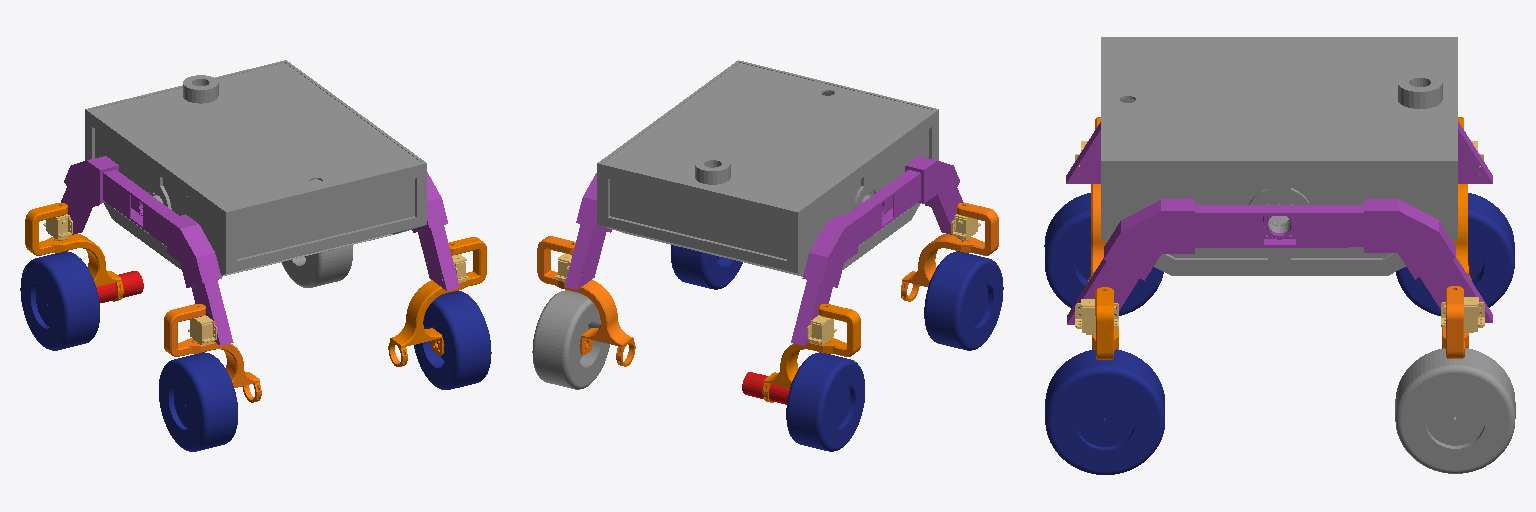
--- Facts derived from the render (not from the file) ---
3 views of the same robot in one strip: view 1: azimuth 30°, elevation 25°; view 2: azimuth 150°, elevation 25°; view 3: azimuth 270°, elevation 25° (orthographic).
Model rover with 23 links and 22 joints (6 revolute, 4 continuous, 12 fixed), rooted at body, posed all joints at 0.
Links seen in each view (by area): view 1: body, left_rocker, bl_whl, fl_whl, br_whl, br_steer, fl_steer, right_rocker, bl_steer, fr_whl, fl_motor, bl_servo (+1 smaller); view 2: body, left_rocker, bl_whl, fl_whl, fr_whl, fr_steer, bl_steer, right_rocker, fl_steer, br_whl, fl_motor, fl_servo (+1 smaller); view 3: body, right_rocker, fr_whl, br_whl, fl_whl, bl_whl, left_rocker, br_steer, fr_steer, bl_steer, fl_steer, fr_servo (+1 smaller).
Link boxes in pixels (x1,y1,x2,y2): body: [85, 60, 426, 276]; left_rocker: [61, 156, 233, 345]; bl_whl: [159, 352, 237, 451]; fl_whl: [20, 251, 99, 350]; br_whl: [414, 291, 491, 389]; br_steer: [388, 237, 486, 358]; fl_steer: [25, 203, 123, 292]; right_rocker: [412, 172, 459, 290]; bl_steer: [164, 304, 261, 393]; fr_whl: [281, 245, 352, 287]; fl_motor: [96, 271, 143, 302]; bl_servo: [188, 315, 216, 344]; body: [597, 60, 938, 276]; left_rocker: [791, 156, 963, 345]; bl_whl: [924, 251, 1003, 350]; fl_whl: [786, 352, 864, 451]; fr_whl: [532, 290, 609, 389]; fr_steer: [537, 236, 635, 357]; bl_steer: [901, 203, 998, 292]; right_rocker: [564, 173, 611, 289]; fl_steer: [762, 304, 860, 394]; br_whl: [671, 245, 742, 289]; fl_motor: [742, 372, 789, 404]; fl_servo: [807, 315, 836, 344]; body: [1101, 37, 1457, 275]; right_rocker: [1067, 199, 1492, 324]; fr_whl: [1395, 348, 1515, 473]; br_whl: [1045, 349, 1164, 474]; fl_whl: [1396, 193, 1514, 315]; bl_whl: [1044, 193, 1163, 315]; left_rocker: [1066, 121, 1492, 183]; br_steer: [1092, 287, 1118, 359]; fr_steer: [1442, 286, 1468, 358]; bl_steer: [1087, 117, 1106, 283]; fl_steer: [1453, 117, 1471, 280]; fr_servo: [1441, 297, 1484, 332].
Bounding box of the posed robot: 0.6178 × 0.6271 × 0.4485 m (x, y, z).
Meshes: 23 distinct files referenced, 20 mesh visuals loaded (20 binary STL); not drawn: 3 (reference not matched to a file when rendering).

URDF robot description (rover):
<robot name="rover">

<link name="body">
<visual>
<origin xyz="-0.19343228599428496928 0.14395944821783071554 0.26237109907984806911" rpy="-1.5707963267948983344 -3.3355470534782881752e-15 -9.5394697344059988075e-16" />
<geometry>
<mesh filename="package://rover_description/rover_desc/parts/body.stl"/>
</geometry>
<material name="body_material">
<color rgba="0.62745098039215685404 0.62745098039215685404 0.62745098039215685404 1.0"/>
</material>
</visual>
<collision>
<origin xyz="-0.19343228599428496928 0.14395944821783071554 0.26237109907984806911" rpy="-1.5707963267948983344 -3.3355470534782881752e-15 -9.5394697344059988075e-16" />
<geometry>
<mesh filename="package://rover_description/rover_desc/parts/body.stl"/>
</geometry>
</collision>
<inertial>
<origin xyz="-0.0034322859941748047434 0.0020938861086602922335 0.35730795518198049665" rpy="0 0 0"/>
<mass value="14.890136874895455676" />
<inertia ixx="0.43250086301603934968" ixy="2.9721267248896739341e-14"  ixz="1.1704030822239045252e-09" iyy="0.37287690006963231104" iyz="-0.00013013794919542435871" izz="0.68054838135481388051" />
</inertial>
</link>


<link name="left_rocker">
<visual>
<origin xyz="0.07816000000000011827 0.14200000000000037592 0.01800000000000012701" rpy="-1.570796326794896558 -1.5707963267948950037 0" />
<geometry>
<mesh filename="package://rover_description/rover_desc/parts/left_rocker.stl"/>
</geometry>
<material name="left_rocker_material">
<color rgba="0.68235294117647060652 0.33333333333333331483 0.73725490196078435901 1.0"/>
</material>
</visual>
<collision>
<origin xyz="0.07816000000000011827 0.14200000000000037592 0.01800000000000012701" rpy="-1.570796326794896558 -1.5707963267948950037 0" />
<geometry>
<mesh filename="package://rover_description/rover_desc/parts/left_rocker.stl"/>
</geometry>
</collision>
<inertial>
<origin xyz="0.019843209810583496699 -1.0071465883498831317e-10 -0.01259379922047600478" rpy="0 0 0"/>
<mass value="3.1599156804225070339" />
<inertia ixx="0.091997687781411846553" ixy="3.6592889631047604478e-11"  ixz="6.6591014607623069029e-06" iyy="0.0045988888217397697403" iyz="3.1871321967513628805e-13" izz="0.095584816217209864209" />
</inertial>
</link>

<link name="fl_servo">
<visual>
<origin xyz="-0.034073937586584723825 -0.077213843876329818494 0.043400000000000132916" rpy="-1.570796326794896558 -1.5707963267948954478 0" />
<geometry>
<mesh filename="package://rover_description/rover_desc/parts/fl_servo.stl"/>
</geometry>
<material name="fl_servo_material">
<color rgba="0.95294117647058818044 0.79607843137254896693 0.48627450980392156188 1.0"/>
</material>
</visual>
<collision>
<origin xyz="-0.034073937586584723825 -0.077213843876329818494 0.043400000000000132916" rpy="-1.570796326794896558 -1.5707963267948954478 0" />
<geometry>
<mesh filename="package://rover_description/rover_desc/parts/fl_servo.stl"/>
</geometry>
</collision>
<inertial>
<origin xyz="0.0079700947515648021963 0.023817007874858756034 -0.012211397442198006213" rpy="0 0 0"/>
<mass value="0.30095826250826973602" />
<inertia ixx="6.1515020750386716097e-05" ixy="4.1386348707448021383e-07"  ixz="1.2153545413687036965e-06" iyy="5.6400683761713572004e-05" iyz="-7.0967198374895849115e-08" izz="9.1372734015628923228e-05" />
</inertial>
</link>

<link name="fl_steer">
<visual>
<origin xyz="0.056900000000000033884 -0.091013843876329769689 0.06867393758658507652" rpy="-1.570796326794901443 9.7218023302443306324e-16 -5.7863152934901557806e-19" />
<geometry>
<mesh filename="package://rover_description/rover_desc/parts/fl_steer.stl"/>
</geometry>
<material name="fl_steer_material">
<color rgba="0.97254901960784312376 0.52941176470588235947 0.0039215686274509803377 1.0"/>
</material>
</visual>
<collision>
<origin xyz="0.056900000000000033884 -0.091013843876329769689 0.06867393758658507652" rpy="-1.570796326794901443 9.7218023302443306324e-16 -5.7863152934901557806e-19" />
<geometry>
<mesh filename="package://rover_description/rover_desc/parts/fl_steer.stl"/>
</geometry>
</collision>
<inertial>
<origin xyz="0.021796088565620277966 -3.4269795938512981337e-07 -0.022257353183229824228" rpy="0 0 0"/>
<mass value="1.3486655156843314618" />
<inertia ixx="0.0036322882753136629362" ixy="-1.3750609455605709302e-08"  ixz="0.0026697404360839158133" iyy="0.0068253606450100548497" iyz="4.2296529827094503289e-08" izz="0.0034338949276419452987" />
</inertial>
</link>

<link name="fl_motor">
<visual>
<origin xyz="-0.028999999999999998002 0.002999999999999974909 -0.11825000000000004952" rpy="1.570796326794896558 5.421257686680294571e-32 -9.7638531054305158568e-33" />
<geometry>
<mesh filename="package://rover_description/rover_desc/parts/fl_motor.stl"/>
</geometry>
<material name="fl_motor_material">
<color rgba="0.86666666666666669627 0.13333333333333333148 0.13333333333333333148 1.0"/>
</material>
</visual>
<collision>
<origin xyz="-0.028999999999999998002 0.002999999999999974909 -0.11825000000000004952" rpy="1.570796326794896558 5.421257686680294571e-32 -9.7638531054305158568e-33" />
<geometry>
<mesh filename="package://rover_description/rover_desc/parts/fl_motor.stl"/>
</geometry>
</collision>
<inertial>
<origin xyz="0.0081633417621368303818 -0.0080748979523884763937 -0.063711508697810809165" rpy="0 0 0"/>
<mass value="1.1669635249832903678" />
<inertia ixx="0.0014435661258087530319" ixy="2.7173683331507626971e-09"  ixz="5.1318365618333701989e-07" iyy="0.0014456129621376958855" iyz="-2.4540570541830781249e-07" izz="0.00022941596317910245952" />
</inertial>
</link>

<link name="fl_whl">
<visual>
<origin xyz="-0.18104393758658485214 -0.091013843608109823435 0.050899999999998529754" rpy="-1.57079632679489678 -1.570796326794891451 0" />
<geometry>
<mesh filename="package://rover_description/rover_desc/parts/fl_whl.stl"/>
</geometry>
<material name="fl_whl_material">
<color rgba="0.18823529411764705621 0.2313725490196078538 0.58823529411764707842 1.0"/>
</material>
</visual>
<collision>
<origin xyz="-0.18104393758658485214 -0.091013843608109823435 0.050899999999998529754" rpy="-1.57079632679489678 -1.570796326794891451 0" />
<geometry>
<mesh filename="package://rover_description/rover_desc/parts/fl_whl.stl"/>
</geometry>

</collision>
<inertial>
<origin xyz="-7.9178013523293577987e-17 -9.7144514654701197287e-17 -0.0070773280698739971309" rpy="0 0 0"/>
<mass value="1.3365750692679565503" />
<inertia ixx="0.002829424224058673179" ixy="-2.1539453691249887424e-19"  ixz="4.2738442004738362441e-18" iyy="0.002829424224058673179" iyz="8.5390822538103700404e-18" izz="0.0046912485783696094427" />
</inertial>
</link>

<joint name="fl_wheel" type="continuous">
<origin xyz="0.0079999999999995630162 -0.0079999999999979809484 0.023499999999998494316" rpy="3.1415926535897926719 -5.7430720689678564416e-16 2.5563346814631189297" />
<parent link="fl_motor" />
<child link="fl_whl" />
<axis xyz="0 0 1"/>
<limit effort="1" velocity="20" />
<joint_properties friction="12.0"/>
</joint>

<joint name="FL_Motor2Mount" type="fixed">
<origin xyz="0.029500000000000720091 -0.0080000002682209248039 -0.10437000000000032363" rpy="-3.1415926535897926719 1.570796326794891451 0" />
<parent link="fl_steer" />
<child link="fl_motor" />
<axis xyz="0 0 1"/>
<limit effort="1" velocity="20" />
<joint_properties friction="0.0"/>
</joint>

<link name="fl_clamp">
<visual>
<origin xyz="-0.047600000000000530775 -0.11250057860073051086 0.18179393758658513036" rpy="-1.5707963267949001107 2.2947746081961756375e-15 -5.7863152935050374413e-19" />
<geometry>
<mesh filename="package://rover_description/rover_desc/parts/fl_clamp.stl"/>
</geometry>
<material name="fl_clamp_material">
<color rgba="1 0.52156862745098042655 0.10196078431372548878 1.0"/>
</material>
</visual>
<collision>
<origin xyz="-0.047600000000000530775 -0.11250057860073051086 0.18179393758658513036" rpy="-1.5707963267949001107 2.2947746081961756375e-15 -5.7863152935050374413e-19" />
<geometry>
<mesh filename="package://rover_description/rover_desc/parts/fl_clamp.stl"/>
</geometry>
</collision>
<inertial>
<origin xyz="-1.0621386825615530825e-09 -0.021486142739031308113 -0.013953120641351964004" rpy="0 0 0"/>
<mass value="0.023562966261883398073" />
<inertia ixx="5.8649646333848660368e-06" ixy="8.0054195219834950149e-12"  ixz="1.2846874940053395266e-12" iyy="1.1647538922670263761e-06" iyz="-1.2018458141570976938e-10" izz="5.1248936208296153987e-06" />
</inertial>
</link>

<joint name="FL_Clamp2Mount" type="fixed">
<origin xyz="0.10450000000000081446 0.02148673472440049137 -0.11162000000000021904" rpy="-1.3191487418674471279e-15 -1.3225943751717407993e-15 -5.7863152934430677564e-19" />
<parent link="fl_steer" />
<child link="fl_clamp" />
<axis xyz="0 0 1"/>
<limit effort="1" velocity="20" />
<joint_properties friction="0.0"/>
</joint>

<joint name="FL_Steer2Servo" type="revolute">
<origin xyz="0.034599999999999991873 0.013800000000000367528 -0.013499999999999900968" rpy="-1.5707963267943512164 -1.5667839918887107586 1.5707963267946660757" />
<parent link="fl_servo" />
<child link="fl_steer" />
<axis xyz="0 0 1"/>
<limit effort="1" velocity="20" lower="-1.0471975511965976313" upper="1.0471975511965976313"/>
<joint_properties friction="0.0"/>
</joint>

<!-- <gazebo reference="FL_Steer2Servo">
    <provideFeedback>true</provideFeedback>
    <implicitSpringDamper>true</implicitSpringDamper>
    <springStiffness>200.0</springStiffness>
    <springReference>0.0</springReference>
    <friction>0.75</friction>
</gazebo> -->

<joint name="FL_Servo2Rocker" type="fixed">
<origin xyz="0.11223393758658459229 0.21921384387633149893 -0.025399999999999700595" rpy="-7.5158228832025782511e-16 1.4251748903082761431e-15 1.5777218104420229102e-30" />
<parent link="left_rocker" />
<child link="fl_servo" />
<axis xyz="0 0 1"/>
<limit effort="1" velocity="20" />
<joint_properties friction="0.0"/>
</joint>

<link name="bl_servo">
<visual>
<origin xyz="-0.034073937586588359805 0.36121384387633087565 0.043400000000000493738" rpy="-1.570796326794896558 -1.5707963267948950037 0" />
<geometry>
<mesh filename="package://rover_description/rover_desc/parts/bl_servo.stl"/>
</geometry>
<material name="bl_servo_material">
<color rgba="0.95294117647058818044 0.79607843137254896693 0.48627450980392156188 1.0"/>
</material>
</visual>
<collision>
<origin xyz="-0.034073937586588359805 0.36121384387633087565 0.043400000000000493738" rpy="-1.570796326794896558 -1.5707963267948950037 0" />
<geometry>
<mesh filename="package://rover_description/rover_desc/parts/bl_servo.stl"/>
</geometry>
</collision>
<inertial>
<origin xyz="0.007970094751564916688 -0.023817007874858575622 -0.012211397442197985397" rpy="0 0 0"/>
<mass value="0.30095826250826984705" />
<inertia ixx="6.1515020750386743202e-05" ixy="-4.1386348707453214753e-07"  ixz="1.2153545413686098876e-06" iyy="5.6400683761713572004e-05" iyz="7.0967198374668420769e-08" izz="9.1372734015628963885e-05" />
</inertial>
</link>

<link name="bl_steer">
<visual>
<origin xyz="0.056900000000000089395 0.3750138438763308546 0.068673937586589073323" rpy="-1.5707963267948947816 1.0259804808888011719e-15 -2.2516610801147431128e-19" />
<geometry>
<mesh filename="package://rover_description/rover_desc/parts/bl_steer.stl"/>
</geometry>
<material name="bl_steer_material">
<color rgba="1 0.52156862745098042655 0.10196078431372548878 1.0"/>
</material>
</visual>
<collision>
<origin xyz="0.056900000000000089395 0.3750138438763308546 0.068673937586589073323" rpy="-1.5707963267948947816 1.0259804808888011719e-15 -2.2516610801147431128e-19" />
<geometry>
<mesh filename="package://rover_description/rover_desc/parts/bl_steer.stl"/>
</geometry>
</collision>
<inertial>
<origin xyz="0.021796088565502275136 4.2836195762729900594e-07 -0.0222573531832480076" rpy="0 0 0"/>
<mass value="1.3486655156810449796" />
<inertia ixx="0.0036322882752310749199" ixy="8.9151877740356255028e-09"  ixz="0.0026697404360826525009" iyy="0.0068253606450098865815" iyz="-3.3253112102159356026e-08" izz="0.0034338949275451989031" />
</inertial>
</link>

<link name="bl_motor">
<visual>
<origin xyz="-0.028999999999999984124 0.0030000000000000026645 -0.11825000000000003564" rpy="1.570796326794896558 -3.2298776845706547017e-31 -2.3153937587166193837e-32" />
<geometry>
<mesh filename="package://rover_description/rover_desc/parts/bl_motor.stl"/>
</geometry>
<material name="bl_motor_material">
<color rgba="0.86666666666666669627 0.13333333333333333148 0.13333333333333333148 1.0"/>
</material>
</visual>
<collision>
<origin xyz="-0.028999999999999984124 0.0030000000000000026645 -0.11825000000000003564" rpy="1.570796326794896558 -3.2298776845706547017e-31 -2.3153937587166193837e-32" />
<geometry>
<mesh filename="package://rover_description/rover_desc/parts/bl_motor.stl"/>
</geometry>
</collision>
<inertial>
<origin xyz="0.0081633417621368442596 -0.0080748979523884469034 -0.063711508697810809165" rpy="0 0 0"/>
<mass value="1.1669635249832903678" />
<inertia ixx="0.0014435661258087530319" ixy="2.7173683331513843233e-09"  ixz="5.1318365618334856072e-07" iyy="0.0014456129621376954519" iyz="-2.4540570541830273029e-07" izz="0.00022941596317910243241" />
</inertial>
</link>

<link name="bl_whl">
<visual>
<origin xyz="-0.18104393758658796076 0.37501384414455324334 0.050899999999998446487" rpy="-1.570796326794896558 -1.5707963267948921171 0" />
<geometry>
<mesh filename="package://rover_description/rover_desc/parts/bl_whl.stl"/>
</geometry>
<material name="bl_whl_material">
<color rgba="0.18823529411764705621 0.2313725490196078538 0.58823529411764707842 1.0"/>
</material>
</visual>
<collision>
<origin xyz="-0.18104393758658796076 0.37501384414455324334 0.050899999999998446487" rpy="-1.570796326794896558 -1.5707963267948921171 0" />
<geometry>
<mesh filename="package://rover_description/rover_desc/parts/bl_whl.stl"/>
</geometry>
</collision>
<inertial>
<origin xyz="-6.0984259665726272122e-17 -1.1102230246251565404e-16 -0.0070773280698740240191" rpy="0 0 0"/>
<mass value="1.3365750692679563283" />
<inertia ixx="0.0028294242240586723117" ixy="-2.8075497875679871817e-19"  ixz="1.9100519512254011122e-18" iyy="0.0028294242240586740464" iyz="8.3560769281583097021e-18" izz="0.004691248578369607708" />
</inertial>
</link>

<joint name="bl_wheel" type="continuous">
<origin xyz="0.0079999999999999793499 -0.0079999999999998128164 0.023500000000000076383" rpy="3.1415926535897926719 2.4528544646838575776e-16 2.5563346814631637827" />
<parent link="bl_motor" />
<child link="bl_whl" />
<axis xyz="0 0 1"/>
<limit effort="1" velocity="20" />
<joint_properties friction="12.0"/>
</joint>

<joint name="BL_Motor2Mount" type="fixed">
<origin xyz="0.029500000000000331513 -0.0080000002682207305149 -0.10436999999999960198" rpy="-3.1415926535897922278 1.5707963267948943376 0" />
<parent link="bl_steer" />
<child link="bl_motor" />
<axis xyz="0 0 1"/>
<limit effort="1" velocity="20" />
<joint_properties friction="0.0"/>
</joint>

<link name="bl_clamp">
<visual>
<origin xyz="-0.047600000000000003419 0.35352710915193058527 0.18179393758658762836" rpy="-1.5707963267948972241 2.2462499910870153881e-15 -2.0161291737649410925e-19" />
<geometry>
<mesh filename="package://rover_description/rover_desc/parts/bl_clamp.stl"/>
</geometry>
<material name="bl_clamp_material">
<color rgba="1 0.52156862745098042655 0.10196078431372548878 1.0"/>
</material>
</visual>
<collision>
<origin xyz="-0.047600000000000003419 0.35352710915193058527 0.18179393758658762836" rpy="-1.5707963267948972241 2.2462499910870153881e-15 -2.0161291737649410925e-19" />
<geometry>
<mesh filename="package://rover_description/rover_desc/parts/bl_clamp.stl"/>
</geometry>
</collision>
<inertial>
<origin xyz="-1.0621386548059774668e-09 -0.021486142739031488524 -0.01395312064135205421" rpy="0 0 0"/>
<mass value="0.023562966261883144803" />
<inertia ixx="5.8649646333847804864e-06" ixy="8.0054195353524769323e-12"  ixz="1.2846874971607049935e-12" iyy="1.164753892267009859e-06" iyz="-1.2018458138789618317e-10" izz="5.1248936208295408598e-06" />
</inertial>
</link>

<joint name="BL_Clamp2Mount" type="fixed">
<origin xyz="0.10450000000000017608 0.021486734724400657903 -0.11161999999999946964" rpy="4.297839667967753496e-16 5.6655398768737880863e-18 -2.2516610801413402054e-19" />
<parent link="bl_steer" />
<child link="bl_clamp" />
<axis xyz="0 0 1"/>
<limit effort="1" velocity="20" />
<joint_properties friction="0.0"/>
</joint>

<joint name="BL_Steer2Servo" type="revolute">
<origin xyz="0.034600000000000102895 -0.013800000000000173239 -0.013500000000000039746" rpy="-1.5707963267952376185 -1.566783991888712757 1.5707963267956142062" />
<parent link="bl_servo" />
<child link="bl_steer" />
<axis xyz="0 0 1"/>
<limit effort="1" velocity="20" lower="-1.0471975511965976313" upper="1.0471975511965976313"/>
<joint_properties friction="0.0"/>
</joint>

<!-- <gazebo reference="BL_Steer2Servo">
    <provideFeedback>true</provideFeedback>
    <implicitSpringDamper>true</implicitSpringDamper>
    <springStiffness>200.0</springStiffness>
    <springReference>0.0</springReference>
    <friction>0.75</friction>
</gazebo> -->

<joint name="BL_Servo2Rocker" type="fixed">
<origin xyz="0.11223393758658836705 -0.21921384387633077728 -0.025400000000000255707" rpy="-2.7483631710412831567e-15 1.3713746424438999486e-15 0" />
<parent link="left_rocker" />
<child link="bl_servo" />
<axis xyz="0 0 1"/>
<limit effort="1" velocity="20" />
<joint_properties friction="0.0"/>
</joint>

<joint name="l_rocker2body" type="revolute">
<origin xyz="-0.21143228599428551262 0.0019594482178305061559 0.34053109907984824289" rpy="-8.0380829845163244361e-16 1.5707963267948907848 0" />
<parent link="body" />
<child link="left_rocker" />
<axis xyz="0 0 1"/>
<limit effort="1" velocity="20" lower="-0.52359877559829881566" upper="0.52359877559829881566"/>
<joint_properties friction="0.0"/>
</joint>

<gazebo reference="l_rocker2body">
    <provideFeedback>true</provideFeedback>
    <implicitSpringDamper>true</implicitSpringDamper>
    <springStiffness>100.0</springStiffness>
    <springReference>0.0</springReference>
</gazebo>

<link name="right_rocker">
<visual>
<origin xyz="0.078160000000000728893 -0.14199999999999982081 0.39800000000000024247" rpy="1.570796326794896558 1.5707963267948945596 0" />
<geometry>
<mesh filename="package://rover_description/rover_desc/parts/right_rocker.stl"/>
</geometry>
<material name="right_rocker_material">
<color rgba="0.68235294117647060652 0.33333333333333331483 0.73725490196078435901 1.0"/>
</material>
</visual>
<collision>
<origin xyz="0.078160000000000728893 -0.14199999999999982081 0.39800000000000024247" rpy="1.570796326794896558 1.5707963267948945596 0" />
<geometry>
<mesh filename="package://rover_description/rover_desc/parts/right_rocker.stl"/>
</geometry>
</collision>
<inertial>
<origin xyz="0.019749845958477146857 -1.0151601781416275116e-10 -0.012563787207807319835" rpy="0 0 0"/>
<mass value="3.1748536151173403219" />
<inertia ixx="0.092000731965220239328" ixy="3.6644812894457526487e-11"  ixz="8.5409407367578405932e-06" iyy="0.0046077871870401944376" iyz="3.337613462120723989e-13" izz="0.095595491905617502315" />
</inertial>
</link>

<link name="fr_servo">
<visual>
<origin xyz="-0.034073937586587610404 0.077213843876329651961 0.4234000000000001096" rpy="1.570796326794896558 1.5707963267948947816 0" />
<geometry>
<mesh filename="package://rover_description/rover_desc/parts/fr_servo.stl"/>
</geometry>
<material name="fr_servo_material">
<color rgba="0.95294117647058818044 0.79607843137254896693 0.48627450980392156188 1.0"/>
</material>
</visual>
<collision>
<origin xyz="-0.034073937586587610404 0.077213843876329651961 0.4234000000000001096" rpy="1.570796326794896558 1.5707963267948947816 0" />
<geometry>
<mesh filename="package://rover_description/rover_desc/parts/fr_servo.stl"/>
</geometry>
</collision>
<inertial>
<origin xyz="0.0079700947515648403602 -0.023817007874858520111 -0.01221139744219790213" rpy="0 0 0"/>
<mass value="0.30095826250826984705" />
<inertia ixx="6.1515020750386607677e-05" ixy="-4.1386348707453971789e-07"  ixz="1.2153545413685711358e-06" iyy="5.6400683761713395821e-05" iyz="7.0967198374693580295e-08" izz="9.137273401562877415e-05" />
</inertial>
</link>

<link name="fr_steer">
<visual>
<origin xyz="-0.43690000000000006608 -0.091013843876329908467 0.068673937586587685544" rpy="-1.5707963267948976682 -1.6286182669569800446e-15 -2.4337315947146275507e-32" />
<geometry>
<mesh filename="package://rover_description/rover_desc/parts/fr_steer.stl"/>
</geometry>
<material name="fr_steer_material">
<color rgba="1 0.52156862745098042655 0.10196078431372548878 1.0"/>
</material>
</visual>
<collision>
<origin xyz="-0.43690000000000006608 -0.091013843876329908467 0.068673937586587685544" rpy="-1.5707963267948976682 -1.6286182669569800446e-15 -2.4337315947146275507e-32" />
<geometry>
<mesh filename="package://rover_description/rover_desc/parts/fr_steer.stl"/>
</geometry>
</collision>
<inertial>
<origin xyz="-0.021796088565566140716 -4.2836189803607815918e-07 -0.022257353183248288625" rpy="0 0 0"/>
<mass value="1.3486655156810425371" />
<inertia ixx="0.0036322882752310636442" ixy="8.9151874335952450242e-09"  ixz="-0.0026697404360826676797" iyy="0.0068253606450099073982" iyz="3.3253111821837574076e-08" izz="0.0034338949275452283934" />
</inertial>
</link>

<link name="fr_motor">
<visual>
<origin xyz="-0.045000000000000012212 0.0030000000000000026645 -0.11824999999999996625" rpy="1.570796326794896558 1.0103251656619010782e-31 -1.4652627824245612462e-20" />
<geometry>
<mesh filename="package://rover_description/rover_desc/parts/fr_motor.stl"/>
</geometry>
<material name="fr_motor_material">
<color rgba="0.86666666666666669627 0.13333333333333333148 0.13333333333333333148 1.0"/>
</material>
</visual>
<collision>
<origin xyz="-0.045000000000000012212 0.0030000000000000026645 -0.11824999999999996625" rpy="1.570796326794896558 1.0103251656619010782e-31 -1.4652627824245612462e-20" />
<geometry>
<mesh filename="package://rover_description/rover_desc/parts/fr_motor.stl"/>
</geometry>
</collision>
<inertial>
<origin xyz="-0.007836658237863183829 -0.0080748979523884469034 -0.063711508697810725899" rpy="0 0 0"/>
<mass value="1.1669635249832908119" />
<inertia ixx="0.0014435661258087525982" ixy="2.7173683331507382952e-09"  ixz="5.1318365618334231385e-07" iyy="0.0014456129621376950182" iyz="-2.4540570541830696546e-07" izz="0.00022941596317910240531" />
</inertial>
</link>

<link name="fr_whl">
<visual>
<origin xyz="-0.18104393758658596236 0.091013844144441857775 0.43089999999992534274" rpy="1.570796326794896558 1.5707963267944513586 0" />
<geometry>
<mesh filename="package://rover_description/rover_desc/parts/fr_whl.stl"/>
</geometry>
<material name="fr_whl_material">
<color rgba="0.62745098039215685404 0.62745098039215685404 0.62745098039215685404 1.0"/>
</material>
</visual>
<collision>
<origin xyz="-0.18104393758658596236 0.091013844144441857775 0.43089999999992534274" rpy="1.570796326794896558 1.5707963267944513586 0" />
<geometry>
<mesh filename="package://rover_description/rover_desc/parts/fr_whl.stl"/>
</geometry>
</collision>
<inertial>
<origin xyz="-3.7780957575932811979e-17 -9.7144514654701197287e-17 -0.0070773280698740448358" rpy="0 0 0"/>
<mass value="1.336575069267954996" />
<inertia ixx="0.0028294242240586723117" ixy="8.9011910890896127632e-33"  ixz="8.6557311137229842599e-18" iyy="0.0028294242240586705769" iyz="1.8882932990998236513e-18" izz="0.0046912485783696059732" />
</inertial>
</link>

<joint name="fr_wheel" type="continuous">
<origin xyz="-0.0080000000000000626166 -0.0079999999999999793499 0.023500000000000048628" rpy="-3.141592653589793116 -1.2616348761332487262e-27 3.1378367530413813213" />
<parent link="fr_motor" />
<child link="fr_whl" />
<axis xyz="0 0 1"/>
<limit effort="1" velocity="20" />
<joint_properties friction="12.0"/>
</joint>

<joint name="FR_Motor2Mount" type="fixed">
<origin xyz="-0.029500000000063808514 -0.0079999997317199977864 -0.10436999999999974076" rpy="-3.1415926535896825378 -1.5707963267948925612 0" />
<parent link="fr_steer" />
<child link="fr_motor" />
<axis xyz="0 0 1"/>
<limit effort="1" velocity="20" />
<joint_properties friction="0.0"/>
</joint>

<link name="fr_clamp">
<visual>
<origin xyz="-0.33239999999993363744 -0.11250057913722313896 0.18179393758658574098" rpy="-1.5707963267948976682 -5.5927484865492402719e-15 4.5342763853053979933e-32" />
<geometry>
<mesh filename="package://rover_description/rover_desc/parts/fr_clamp.stl"/>
</geometry>
<material name="fr_clamp_material">
<color rgba="1 0.52156862745098042655 0.10196078431372548878 1.0"/>
</material>
</visual>
<collision>
<origin xyz="-0.33239999999993363744 -0.11250057913722313896 0.18179393758658574098" rpy="-1.5707963267948976682 -5.5927484865492402719e-15 4.5342763853053979933e-32" />
<geometry>
<mesh filename="package://rover_description/rover_desc/parts/fr_clamp.stl"/>
</geometry>
</collision>
<inertial>
<origin xyz="1.0621409307631779484e-09 -0.021487327246212065135 -0.013953120641351839104" rpy="0 0 0"/>
<mass value="0.023562966261883321745" />
<inertia ixx="5.8649646333849312583e-06" ixy="8.0054200433861070288e-12"  ixz="-1.2846874875787233356e-12" iyy="1.1647538922670318818e-06" iyz="1.2018458145444898976e-10" izz="5.1248936208296628326e-06" />
</inertial>
</link>

<joint name="FR_Clamp2Mount" type="fixed">
<origin xyz="-0.10450000000006709477 0.021486735260893480293 -0.11161999999999966393" rpy="8.8444140894472082179e-17 3.9641302195922511554e-15 -8.1071766067163712513e-30" />
<parent link="fr_steer" />
<child link="fr_clamp" />
<axis xyz="0 0 1"/>
<limit effort="1" velocity="20" />
<joint_properties friction="0.0"/>
</joint>

<joint name="FR_Steer2Servo" type="revolute">
<origin xyz="0.034600000000000019629 -0.013800000000000034461 -0.013499999999999984235" rpy="-3.1415926535897922278 1.5707963267948945596 0" />
<parent link="fr_servo" />
<child link="fr_steer" />
<axis xyz="0 0 1"/>
<limit effort="1" velocity="20" lower="-1.0471975511965976313" upper="1.0471975511965976313"/>
<joint_properties friction="0.0"/>
</joint>

<!-- <gazebo reference="FR_Steer2Servo">
    <provideFeedback>true</provideFeedback>
    <implicitSpringDamper>true</implicitSpringDamper>
    <springStiffness>200.0</springStiffness>
    <springReference>0.0</springReference>
    <friction>0.75</friction>
</gazebo> -->

<joint name="FR_Servo2Rocker" type="fixed">
<origin xyz="0.11223393758658814501 -0.21921384387633036095 -0.025400000000000616529" rpy="-2.4134538591578045008e-16 -2.0555539217396999166e-17 3.1489024047051702671e-19" />
<parent link="right_rocker" />
<child link="fr_servo" />
<axis xyz="0 0 1"/>
<limit effort="1" velocity="20" />
<joint_properties friction="0.0"/>
</joint>

<link name="br_servo">
<visual>
<origin xyz="-0.034073937586584585047 -0.36121384387633004298 0.42339999999999999858" rpy="1.570796326794896558 1.5707963267948950037 0" />
<geometry>
<mesh filename="package://rover_description/rover_desc/parts/br_servo.stl"/>
</geometry>
<material name="br_servo_material">
<color rgba="0.95294117647058818044 0.79607843137254896693 0.48627450980392156188 1.0"/>
</material>
</visual>
<collision>
<origin xyz="-0.034073937586584585047 -0.36121384387633004298 0.42339999999999999858" rpy="1.570796326794896558 1.5707963267948950037 0" />
<geometry>
<mesh filename="package://rover_description/rover_desc/parts/br_servo.stl"/>
</geometry>
</collision>
<inertial>
<origin xyz="0.007970094751564509028 0.02381700787480783843 -0.012211397442186633366" rpy="0 0 0"/>
<mass value="0.3009582625082701246" />
<inertia ixx="6.1515020750379275759e-05" ixy="4.1386348710015780586e-07"  ixz="1.2153545413628288877e-06" iyy="5.6400683761704518916e-05" iyz="-7.096719839154229646e-08" izz="9.1372734015629858352e-05" />
</inertial>
</link>

<link name="br_steer">
<visual>
<origin xyz="-0.43689999999998418989 0.37501384387626873762 0.068673937586585853676" rpy="-1.5707963267948921171 -1.574818019091989919e-15 -2.67551987683194984e-32" />
<geometry>
<mesh filename="package://rover_description/rover_desc/parts/br_steer.stl"/>
</geometry>
<material name="br_steer_material">
<color rgba="0.97254901960784312376 0.52941176470588235947 0.0039215686274509803377 1.0"/>
</material>
</visual>
<collision>
<origin xyz="-0.43689999999998418989 0.37501384387626873762 0.068673937586585853676" rpy="-1.5707963267948921171 -1.574818019091989919e-15 -2.67551987683194984e-32" />
<geometry>
<mesh filename="package://rover_description/rover_desc/parts/br_steer.stl"/>
</geometry>
</collision>
<inertial>
<origin xyz="-0.021796088565727067543 3.4269791349128553293e-07 -0.022257353183423318754" rpy="0 0 0"/>
<mass value="1.348665515689196237" />
<inertia ixx="0.0036322882753268906364" ixy="-1.3750611663390406009e-08"  ixz="-0.0026697404360926952488" iyy="0.0068253606450268313605" iyz="-4.2296533427855762063e-08" izz="0.0034338949276469890072" />
</inertial>
</link>

<link name="br_motor">
<visual>
<origin xyz="-0.044999999999999998335 0.0030000000000000026645 -0.11825000000000000788" rpy="1.570796326794896558 -1.8202362472477753605e-31 -8.1542138269875287543e-20" />
<geometry>
<mesh filename="package://rover_description/rover_desc/parts/br_motor.stl"/>
</geometry>
<material name="br_motor_material">
<color rgba="0.86666666666666669627 0.13333333333333333148 0.13333333333333333148 1.0"/>
</material>
</visual>
<collision>
<origin xyz="-0.044999999999999998335 0.0030000000000000026645 -0.11825000000000000788" rpy="1.570796326794896558 -1.8202362472477753605e-31 -8.1542138269875287543e-20" />
<geometry>
<mesh filename="package://rover_description/rover_desc/parts/br_motor.stl"/>
</geometry>
</collision>
<inertial>
<origin xyz="-0.0078366582378631699513 -0.0080748979523884469034 -0.06371150869781078141" rpy="0 0 0"/>
<mass value="1.1669635249832903678" />
<inertia ixx="0.0014435661258087528151" ixy="2.7173683331516411629e-09"  ixz="5.13183656183343055e-07" iyy="0.0014456129621376954519" iyz="-2.4540570541830770661e-07" izz="0.00022941596317910245952" />
</inertial>
</link>

<link name="br_whl">
<visual>
<origin xyz="-0.18104393758658479663 -0.37501384360837108911 0.43089999999995631796" rpy="1.570796326794896558 1.5707963267944542451 0" />
<geometry>
<mesh filename="package://rover_description/rover_desc/parts/br_whl.stl"/>
</geometry>
<material name="br_whl_material">
<color rgba="0.18823529411764705621 0.2313725490196078538 0.58823529411764707842 1.0"/>
</material>
</visual>
<collision>
<origin xyz="-0.18104393758658479663 -0.37501384360837108911 0.43089999999995631796" rpy="1.570796326794896558 1.5707963267944542451 0" />
<geometry>
<mesh filename="package://rover_description/rover_desc/parts/br_whl.stl"/>
</geometry>
</collision>
<inertial>
<origin xyz="-2.3005062834584412123e-17 -4.9960036108132044319e-16 -0.0070773280698739338135" rpy="0 0 0"/>
<mass value="1.3365750692679554401" />
<inertia ixx="0.002829424224058673179" ixy="1.2676769905745770879e-33"  ixz="9.2370861885585338964e-19" iyy="0.0028294242240586723117" iyz="7.8547204682554869206e-19" izz="0.004691248578369607708" />
</inertial>
</link>

<joint name="br_wheel" type="continuous">
<origin xyz="-0.0080000000000000071054 -0.0079999999999999793499 0.023499999999999993117" rpy="-3.141592653589793116 -3.3565753444764130465e-30 3.1378367530413666664" />
<parent link="br_motor" />
<child link="br_whl" />
<axis xyz="0 0 1"/>
<limit effort="1" velocity="20" />
<joint_properties friction="12.0"/>
</joint>

<joint name="BR_Motor2Mount" type="fixed">
<origin xyz="-0.029499999999998888223 -0.0079999997317824755871 -0.10437000000000022648" rpy="-3.1415926535896829819 -1.5707963267948921171 0" />
<parent link="br_steer" />
<child link="br_motor" />
<axis xyz="0 0 1"/>
<limit effort="1" velocity="20" />
<joint_properties friction="0.0"/>
</joint>

<link name="br_clamp">
<visual>
<origin xyz="-0.33239999999998193214 0.35352710861543823473 0.18179393758658546343" rpy="-1.5707963267948934494 -1.4953316362921737706e-15 2.3825656186268124474e-33" />
<geometry>
<mesh filename="package://rover_description/rover_desc/parts/br_clamp.stl"/>
</geometry>
<material name="br_clamp_material">
<color rgba="1 0.52156862745098042655 0.10196078431372548878 1.0"/>
</material>
</visual>
<collision>
<origin xyz="-0.33239999999998193214 0.35352710861543823473 0.18179393758658546343" rpy="-1.5707963267948934494 -1.4953316362921737706e-15 2.3825656186268124474e-33" />
<geometry>
<mesh filename="package://rover_description/rover_desc/parts/br_clamp.stl"/>
</geometry>
</collision>
<inertial>
<origin xyz="1.0621408752520267171e-09 -0.021487327246211943704 -0.013953120641351835635" rpy="0 0 0"/>
<mass value="0.023562966261883578484" />
<inertia ixx="5.8649646333849685278e-06" ixy="8.0054200309620513299e-12"  ixz="-1.284687488006020687e-12" iyy="1.1647538922670395051e-06" iyz="1.2018458145652224042e-10" izz="5.1248936208297043372e-06" />
</inertial>
</link>

<joint name="BR_Clamp2Mount" type="fixed">
<origin xyz="-0.10450000000000228551 0.021486735260830752692 -0.11162000000000010802" rpy="1.5329313582824529832e-15 -7.9486382799815655376e-17 2.0257153139395525174e-30" />
<parent link="br_steer" />
<child link="br_clamp" />
<axis xyz="0 0 1"/>
<limit effort="1" velocity="20" />
<joint_properties friction="0.0"/>
</joint>

<joint name="BR_Steer2Servo" type="revolute">
<origin xyz="0.034599999999999603295 0.013799999999938222794 -0.013499999999985107246" rpy="3.1415926535897886751 1.5707963267948961139 0" />
<parent link="br_servo" />
<child link="br_steer" />
<axis xyz="0 0 1"/>
<limit effort="1" velocity="20" lower="-1.0471975511965976313" upper="1.0471975511965976313"/>
<joint_properties friction="0.0"/>
</joint>

<!-- <gazebo reference="BR_Steer2Servo">
    <provideFeedback>true</provideFeedback>
    <implicitSpringDamper>true</implicitSpringDamper>
    <springStiffness>200.0</springStiffness>
    <springReference>0.0</springReference>
    <friction>0.75</friction>
</gazebo> -->

<joint name="BR_Servo2Rocker" type="fixed">
<origin xyz="0.11223393758658470332 0.21921384387633208179 -0.025400000000000005906" rpy="3.1722415169865354398e-16 1.8314944689513809452e-16 3.1489024047051702671e-19" />
<parent link="right_rocker" />
<child link="br_servo" />
<axis xyz="0 0 1"/>
<limit effort="1" velocity="20" />
<joint_properties friction="0.0"/>
</joint>

<joint name="r_rocker2body" type="revolute">
<origin xyz="0.20456771400571505115 0.001959448217830700445 0.34053109907984957516" rpy="-1.5707963267953113373 1.5670404262464796563 1.5707963267944826669" />
<parent link="body" />
<child link="right_rocker" />
<axis xyz="0 0 1"/>
<limit effort="1" velocity="20" lower="-0.52359877559829881566" upper="0.52359877559829881566"/>
<joint_properties friction="0.0"/>
</joint>

<gazebo reference="r_rocker2body">
    <provideFeedback>true</provideFeedback>
    <implicitSpringDamper>true</implicitSpringDamper>
    <springStiffness>500.0</springStiffness>
    <springReference>0.0</springReference>
    <friction>0.75</friction>
</gazebo>

<gazebo reference="fr_whl">
    <material>Gazebo/Black</material>
    <mu1 value="0.8"/>
    <mu2 value="0.8"/>
</gazebo>

<gazebo reference="fl_whl">
    <material>Gazebo/Black</material>
    <mu1 value="0.8"/>
    <mu2 value="0.8"/>
</gazebo>

<gazebo reference="br_whl">
    <material>Gazebo/Black</material>
    <mu1 value="0.8"/>
    <mu2 value="0.8"/>
</gazebo>

<gazebo reference="bl_whl">
    <material>Gazebo/Black</material>
    <mu1 value="0.8"/>
    <mu2 value="0.8"/>
</gazebo>


</robot>
